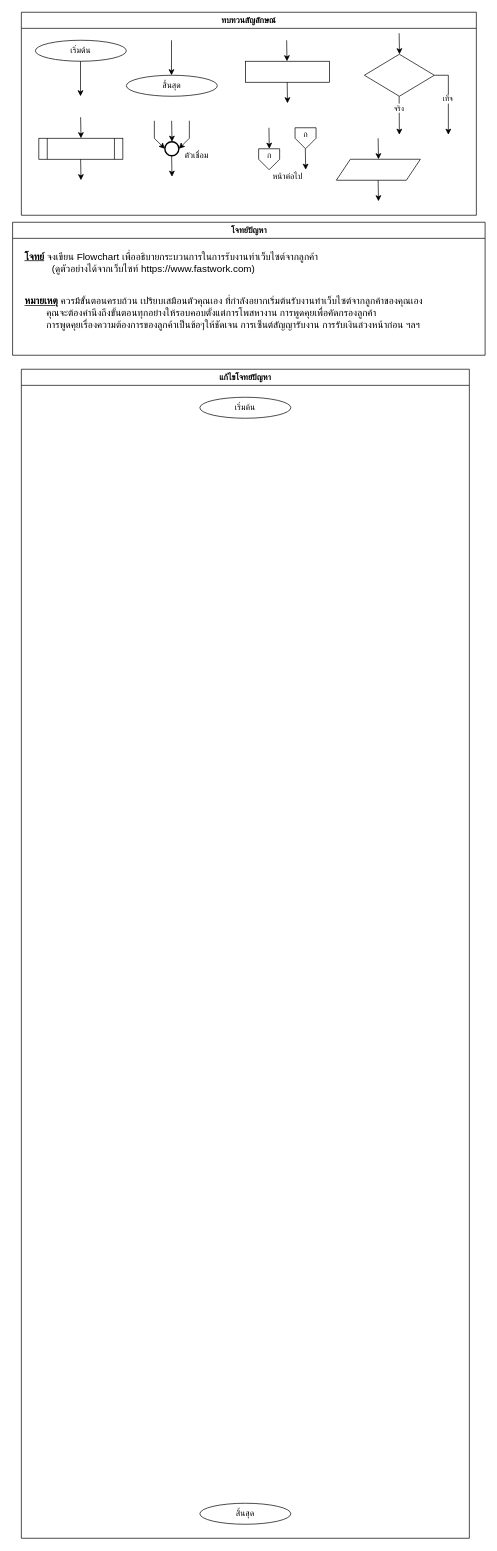
Some shapes in this 497 by 1551 pixel diagram are drawn without their labels. Each missing label, with the centre of its shape:
"กระบวนการ" goes at (287,71).
"ประโยคเงื่อนไข" goes at (399,75).
"ฟังก์ชัน/โมดูล" goes at (80,148).
"แสดงผล/รับค่า" goes at (378,169).
